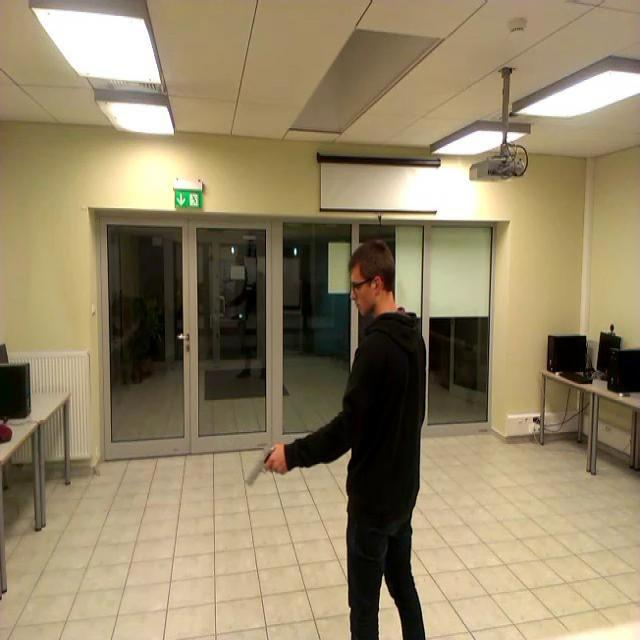weapon: (241, 447, 282, 488)
